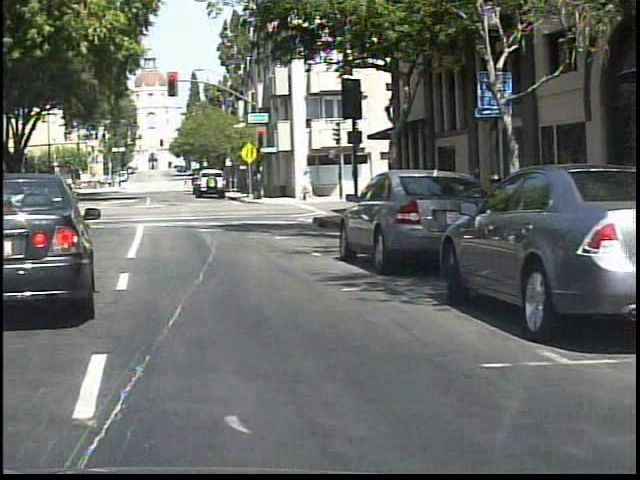person: (13, 173, 33, 211), (2, 175, 20, 212)
